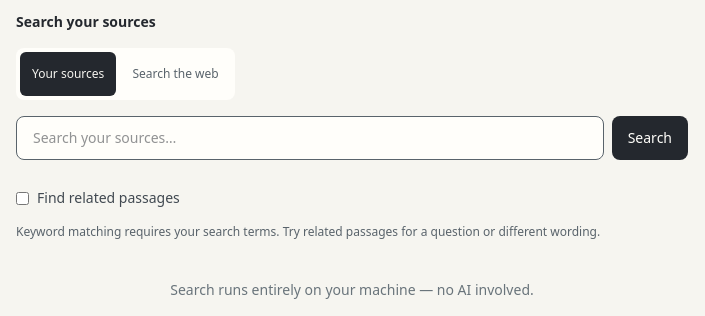
Test: round9 item7 search name › gives the search input a mode-aware accessible name
Check: the search field labelled "Search your sources…" is shown, box [16,116,604,160]
Click the button "Search the web": (176, 74) [120,52,231,96]
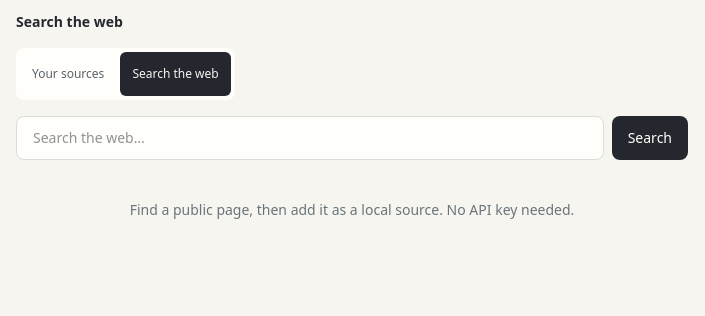
Check: the search field labelled "Search the web…" is shown, box [16,116,604,160]
